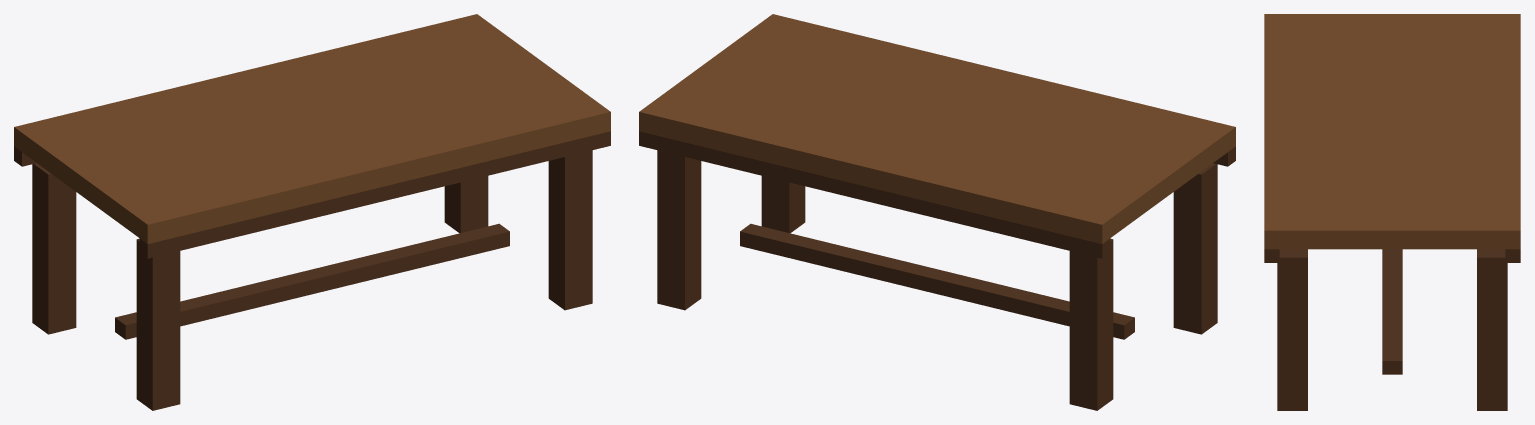
File: tv-reading-table.glb
The picture shows the model from 3 angles, left to right: view 1: azimuth 30°, elevation 25°; view 2: azimuth 150°, elevation 25°; view 3: azimuth 270°, elevation 25°; orthographic projection. The views are drawn at different scales.
Parts seen in each view (by area): view 1: box-prop; view 2: box-prop; view 3: box-prop.
Part boxes in pixels (x1,y1,x2,y2): box-prop: (14, 14, 610, 410); box-prop: (639, 14, 1235, 410); box-prop: (1264, 14, 1520, 410).
Size of the model in its own units: 2 by 0.8 by 1.
